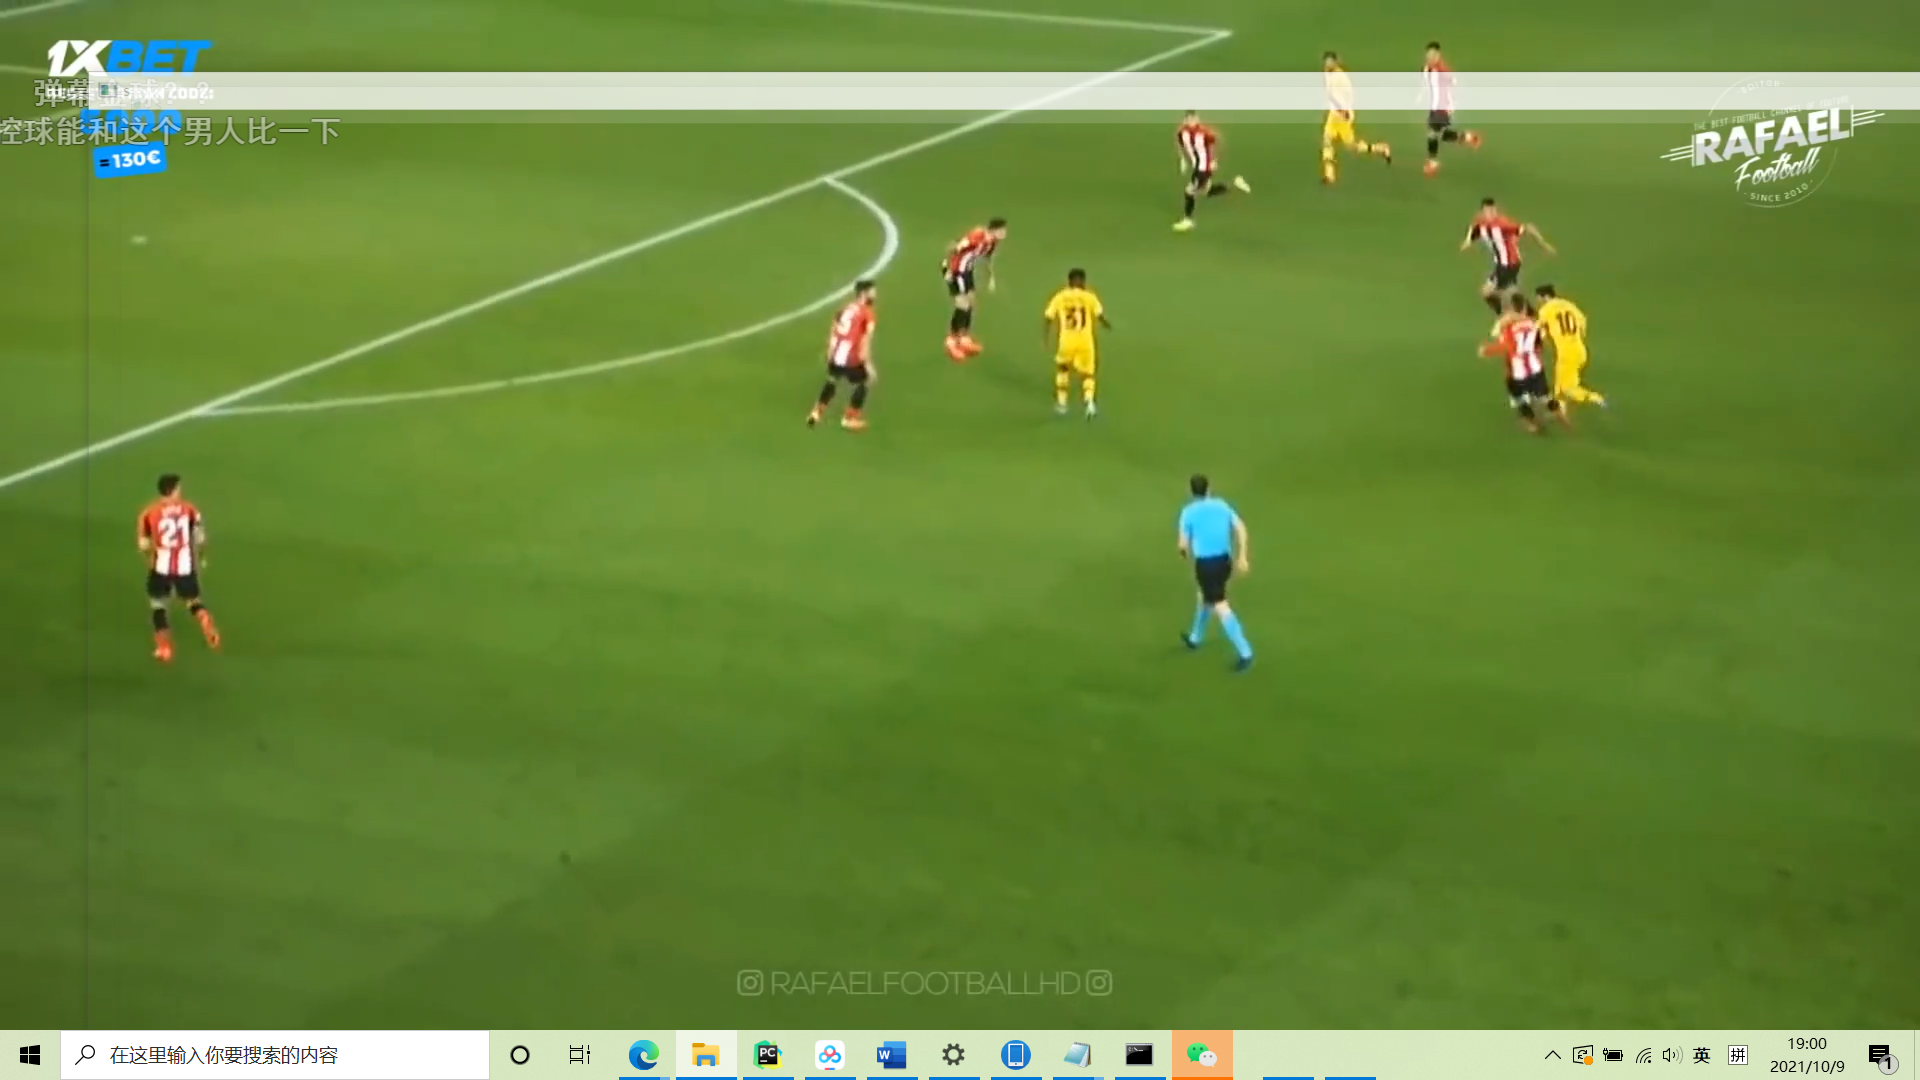ft: (1506, 390, 1534, 411)
